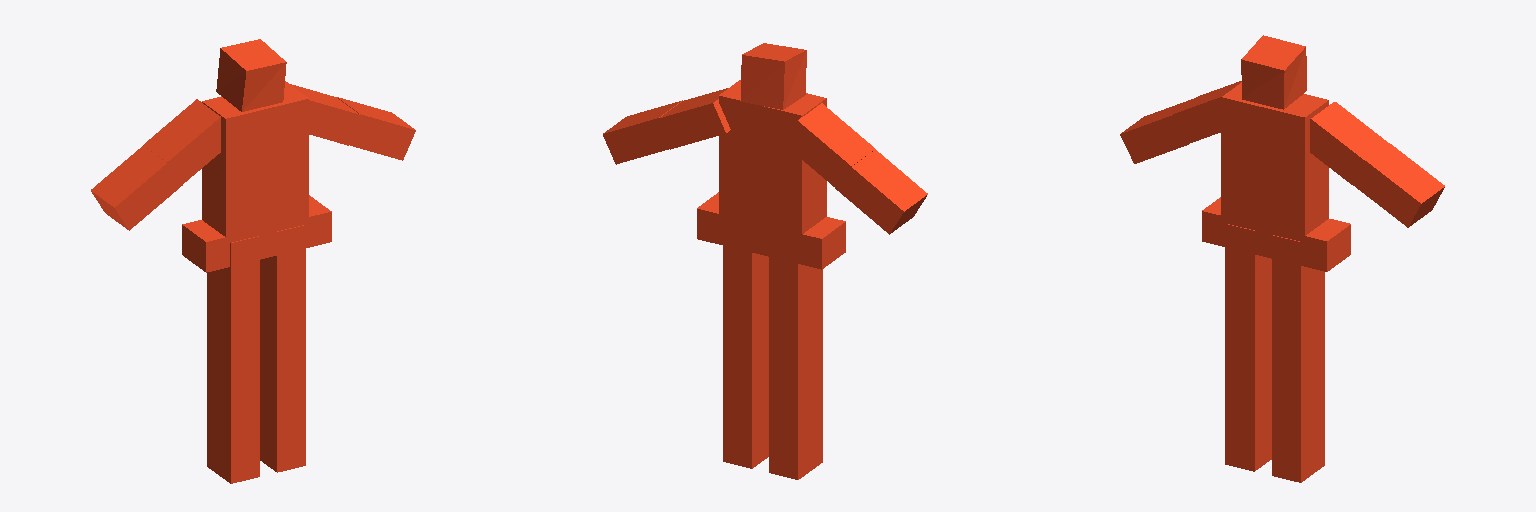
The picture shows the model from 3 angles: view 1: azimuth 30°, elevation 25°; view 2: azimuth 150°, elevation 25°; view 3: azimuth 330°, elevation 25°; orthographic projection.
Parts seen in each view (by area): view 1: 立方体_立方体.001; view 2: 立方体_立方体.001; view 3: 立方体_立方体.001.
Boxes of the visible parts, box(x1,y1,x2,y2) form: 立方体_立方体.001: box(91, 39, 415, 483); 立方体_立方体.001: box(603, 43, 927, 479); 立方体_立方体.001: box(1120, 35, 1444, 482).
Bounding box in the file's own units: 14.42 × 18.97 × 2.44.
1 materials, 1 textured.